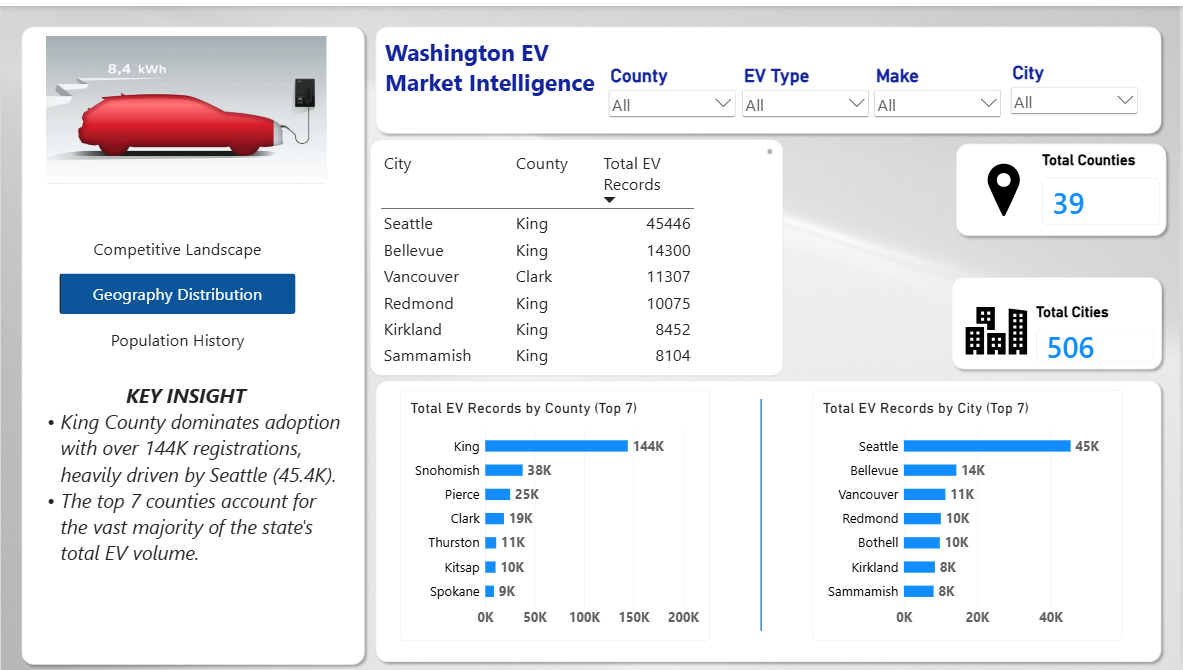

What the dashboard file says about the page in this screenshot:
{"tool":"powerbi","page":{"name":"Geography Distribution","canvas":[1920,1080],"ordinal":1},"visuals":[{"type":"shape","box":[600,24,1296,192],"z":0},{"type":"textbox","box":[624,48,384,144],"z":1000},{"type":"slicer","fields":{"Values":["Electric Vehicle Population Data.Electric Vehicle Type"]},"box":[1200,96,216,120],"z":2000},{"type":"slicer","fields":{"Values":["Electric Vehicle Population Data.Make"]},"box":[1416,96,216,120],"z":3000},{"type":"slicer","fields":{"Values":["Electric Vehicle Population Data.City"]},"box":[1636.7,90,216,120],"z":4000},{"type":"shape","box":[24,24,576,1056],"z":5000},{"type":"actionButton","box":[72,48,456,240],"z":6000},{"type":"shape","box":[1536,432,360,168],"z":7000},{"type":"cardVisual","title":"Total Cities","fields":{"Data":["Count(Electric Vehicle Population Data.City)"]},"box":[1683.8,483.4,192,96],"z":8000},{"type":"shape","box":[1545.2,214.7,360,168],"z":9000},{"type":"cardVisual","title":"Total Counties","fields":{"Data":["_popmeasures.Total Counties"]},"box":[1692.6,235.9,192,120],"z":10000},{"type":"textbox","box":[48,576,504,480],"z":11000},{"type":"group","id":"g1","title":"Group 1","box":[600,600,1296,456],"z":12000},{"type":"shape","box":[600,600,1296,475.8],"z":13000,"group":"g1"},{"type":"clusteredBarChart","title":"Total EV Records by County (Top 7)","fields":{"Category":["Electric Vehicle Population Data.County"],"Y":["_popmeasures.Total EV Records"]},"box":[648,624,504,408],"z":13000},{"type":"clusteredBarChart","title":"Total EV Records by City (Top 7)","fields":{"Category":["Electric Vehicle Population Data.City"],"Y":["_popmeasures.Total EV Records"]},"box":[1320,624,504,408],"z":14000},{"type":"tableEx","fields":{"Values":["Electric Vehicle Population Data.City","Electric Vehicle Population Data.County","_popmeasures.Total EV Records"]},"box":[600,216,672,384],"z":15000},{"type":"shape","box":[1200,639.7,72,376.7],"z":15002,"group":"g1"},{"type":"slicer","fields":{"Values":["Electric Vehicle Population Data.County"]},"box":[984,96,216,120],"z":16000},{"type":"pageNavigator","box":[96,360,384,216],"z":17000},{"type":"image","box":[1560,240,144,120],"z":18000},{"type":"image","box":[1560,456,120,144],"z":19000}]}

Visuals, with their boxes in screenshot pixels (x1, y1, x2, y2), scaled from the page's 1920x1080 canvas onto the 1183x670 screenshot:
shape: {"left": 370, "top": 15, "right": 1168, "bottom": 134}
textbox: {"left": 384, "top": 30, "right": 621, "bottom": 119}
slicer - Electric Vehicle Population Data.Electric Vehicle Type: {"left": 739, "top": 60, "right": 872, "bottom": 134}
slicer - Electric Vehicle Population Data.Make: {"left": 872, "top": 60, "right": 1006, "bottom": 134}
slicer - Electric Vehicle Population Data.City: {"left": 1008, "top": 56, "right": 1142, "bottom": 130}
shape: {"left": 15, "top": 15, "right": 370, "bottom": 669}
actionButton: {"left": 44, "top": 30, "right": 325, "bottom": 179}
shape: {"left": 946, "top": 268, "right": 1168, "bottom": 372}
"Total Cities" cardVisual: {"left": 1037, "top": 300, "right": 1156, "bottom": 359}
shape: {"left": 952, "top": 133, "right": 1174, "bottom": 237}
"Total Counties" cardVisual: {"left": 1043, "top": 146, "right": 1161, "bottom": 221}
textbox: {"left": 30, "top": 357, "right": 340, "bottom": 655}
"Group 1" group: {"left": 370, "top": 372, "right": 1168, "bottom": 655}
shape: {"left": 370, "top": 372, "right": 1168, "bottom": 667}
"Total EV Records by County (Top 7)" clusteredBarChart: {"left": 399, "top": 387, "right": 710, "bottom": 640}
"Total EV Records by City (Top 7)" clusteredBarChart: {"left": 813, "top": 387, "right": 1124, "bottom": 640}
tableEx - Electric Vehicle Population Data.City x Electric Vehicle Population Data.County: {"left": 370, "top": 134, "right": 784, "bottom": 372}
shape: {"left": 739, "top": 397, "right": 784, "bottom": 631}
slicer - Electric Vehicle Population Data.County: {"left": 606, "top": 60, "right": 739, "bottom": 134}
pageNavigator: {"left": 59, "top": 223, "right": 296, "bottom": 357}
image: {"left": 961, "top": 149, "right": 1050, "bottom": 223}
image: {"left": 961, "top": 283, "right": 1035, "bottom": 372}
